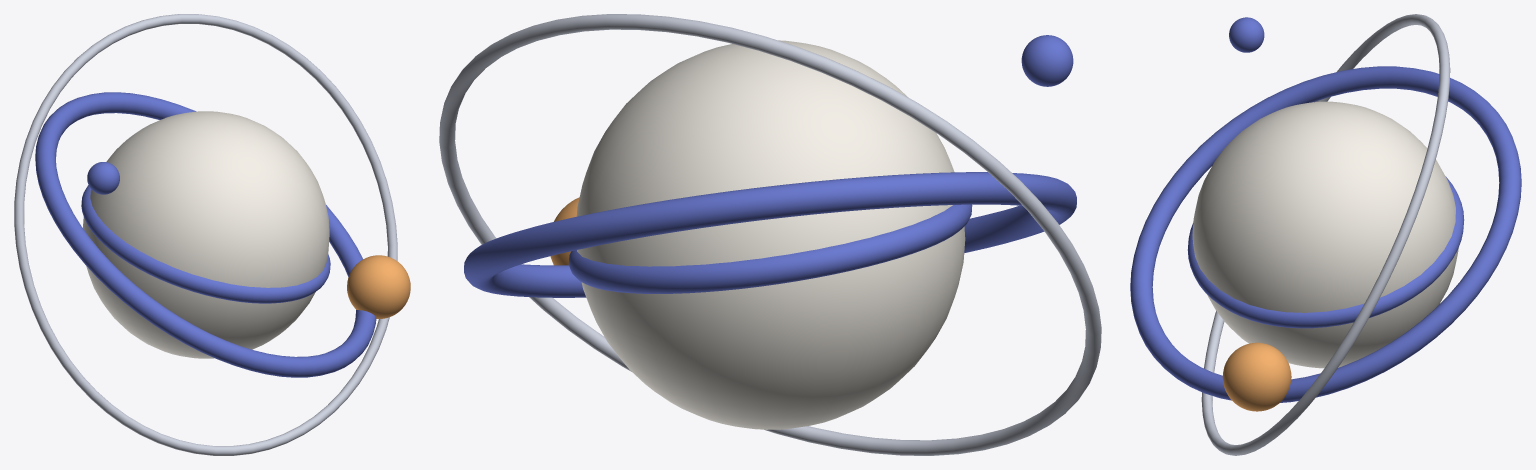
Rendered from orb.glb.
3 views of the same model, side by side, from view 1: azimuth 30°, elevation 25°; view 2: azimuth 150°, elevation 25°; view 3: azimuth 270°, elevation 25° (orthographic). The views are drawn at different scales.
Visible parts, largest first — view 1: orb; view 2: orb; view 3: orb.
Boxes of the visible parts, box(x1,y1,x2,y2) form: orb: box(14, 14, 410, 455); orb: box(439, 14, 1101, 455); orb: box(1130, 14, 1521, 455).
Bounding box in the file's own units: 2.3 × 2.02 × 1.88.
